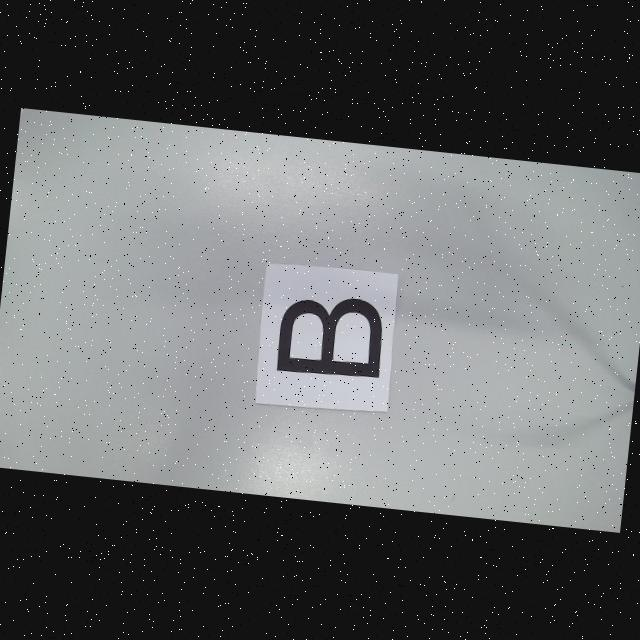FAKE: (276, 292, 386, 382)
